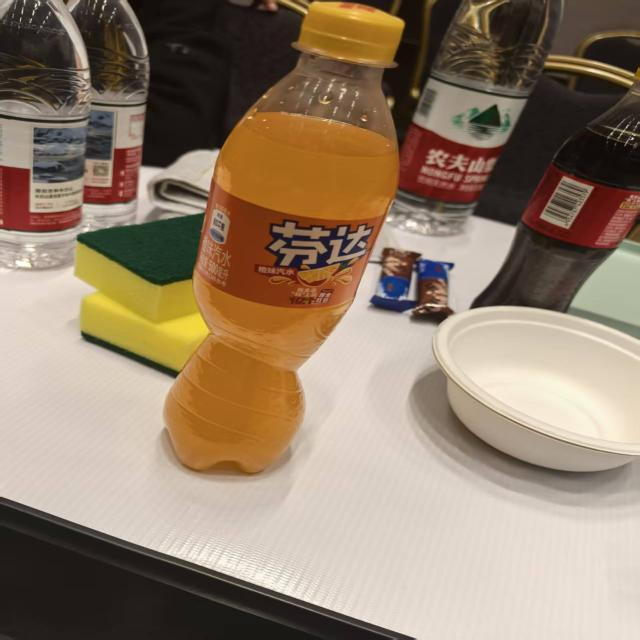orange: (247, 217, 371, 300)
